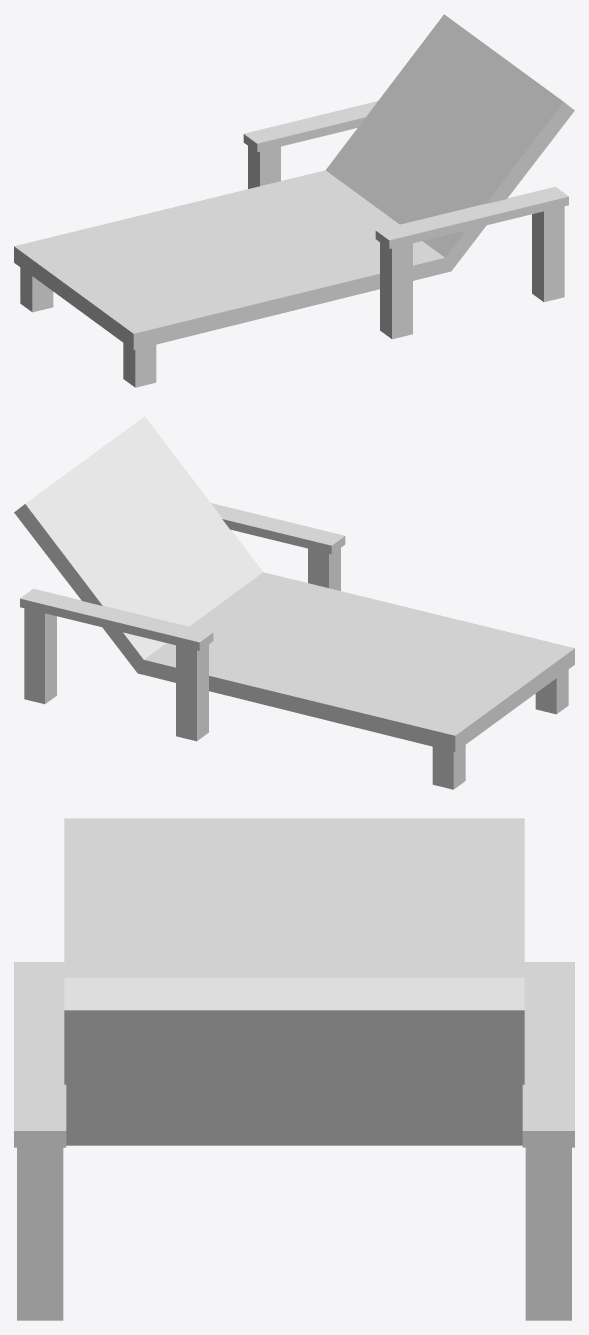
File: pool_chair_05.fbx
3 views of the same model, one above another, from view 1: azimuth 30°, elevation 25°; view 2: azimuth 150°, elevation 25°; view 3: azimuth 270°, elevation 25° (orthographic). The views are drawn at different scales.
Parts seen in each view (by area): view 1: pool_chair_05; view 2: pool_chair_05; view 3: pool_chair_05.
Part boxes in pixels (x1=…): pool_chair_05: x1=14, y1=14, x2=574, y2=387; pool_chair_05: x1=14, y1=416, x2=574, y2=789; pool_chair_05: x1=14, y1=818, x2=574, y2=1320.
Bounding box in the file's own units: 1.74 × 0.6939 × 0.9975.
